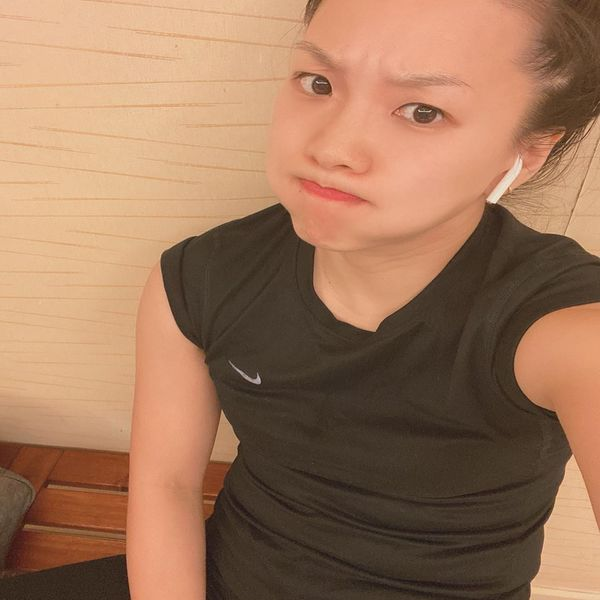nike: (224, 354, 265, 393)
